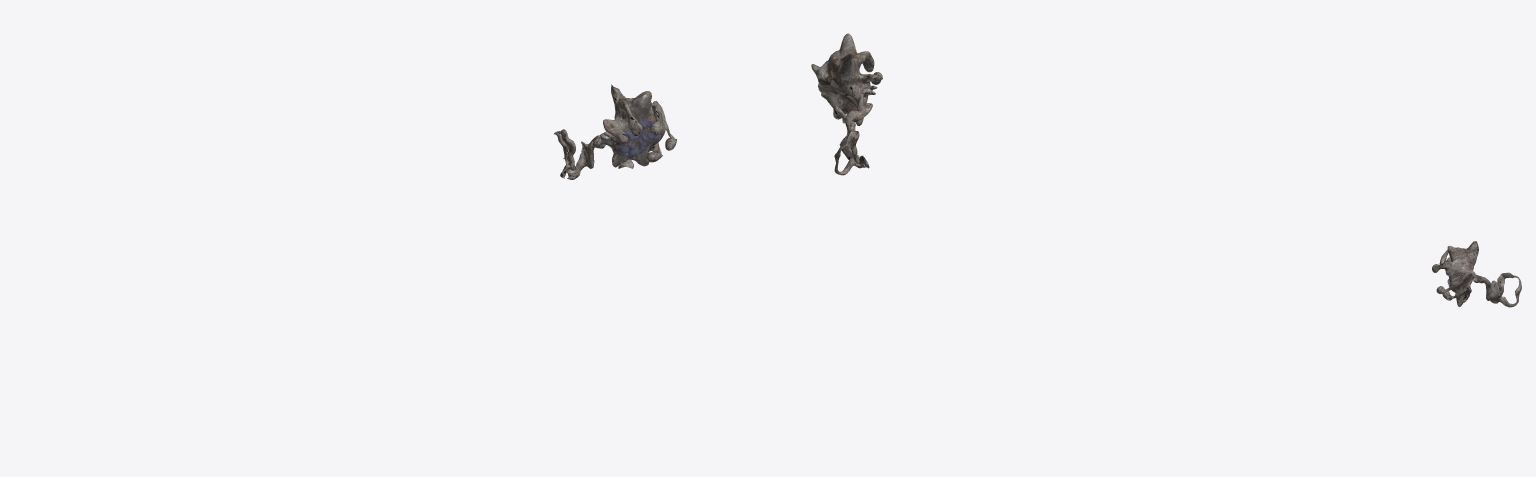
The model's file is deck_btn_0-CVQPhlAj.glb.
3 renders of one model, left to right at view 1: azimuth 30°, elevation 25°; view 2: azimuth 150°, elevation 25°; view 3: azimuth 270°, elevation 25°, orthographic. The views are drawn at different scales.
Visible parts, largest first — view 1: body; view 2: body; view 3: body.
Part boxes in pixels (box(x1,y1,x2,y2)): body: box(554, 84, 676, 179); body: box(811, 33, 882, 175); body: box(1432, 241, 1521, 307).
Bounding box in the file's own units: 3.49 × 1.39 × 0.5476.
2 materials, 1 textured.
